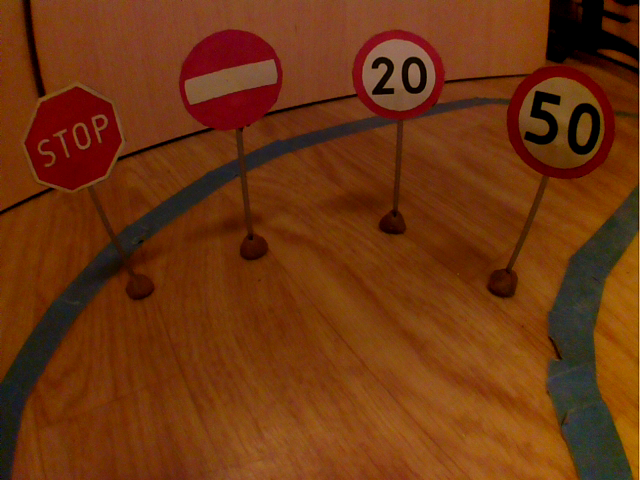Ograniczenie 20: (347, 27, 449, 122)
Ograniczenie 50: (504, 64, 618, 183)
Stop: (19, 76, 128, 201)
Zakaz: (174, 26, 286, 136)
